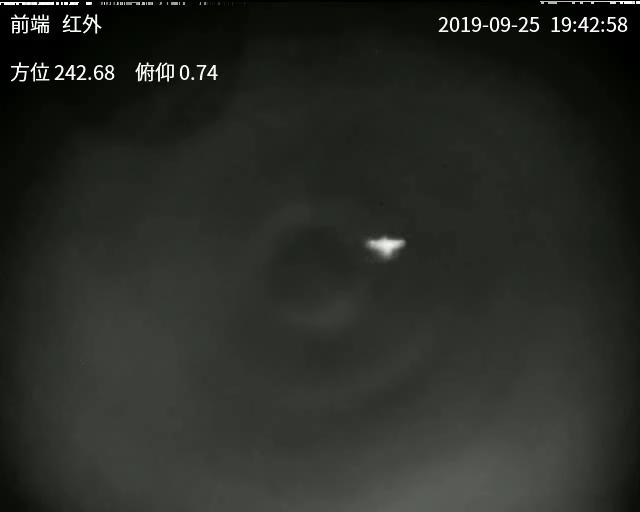uav: (366, 234, 403, 257)
